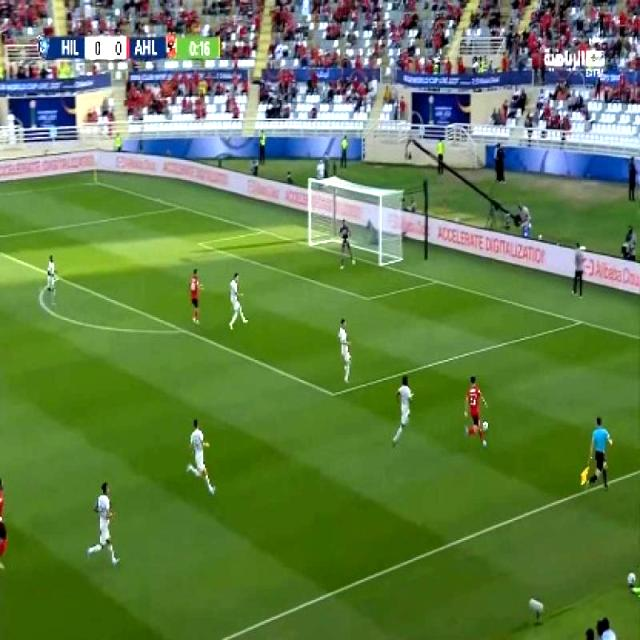bigarea_bottom_inner: (320, 376, 346, 410)
bigarea_bottom_outter: (569, 309, 588, 331)
bigarea_top_outter: (170, 198, 188, 214)
bottom_arc_area_intersection: (172, 318, 192, 340)
corner: (85, 175, 102, 188)
smallarea_bottom_inner: (357, 288, 375, 309)
smallarea_bottom_outter: (426, 271, 444, 291)
smallarea_top_inner: (190, 232, 212, 254)
smallarea_top_outter: (252, 222, 271, 240)
top_arc_area_intersection: (50, 270, 64, 284)
